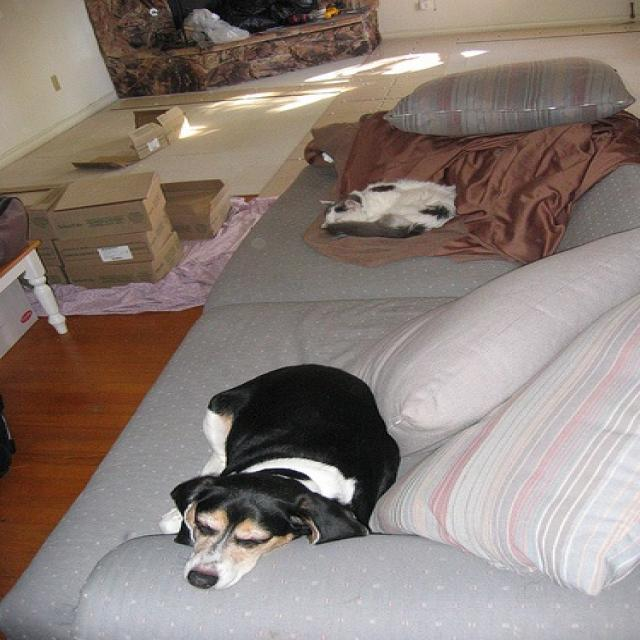cat: (318, 176, 459, 236)
dog: (158, 363, 402, 589)
sofa: (1, 109, 636, 639)
